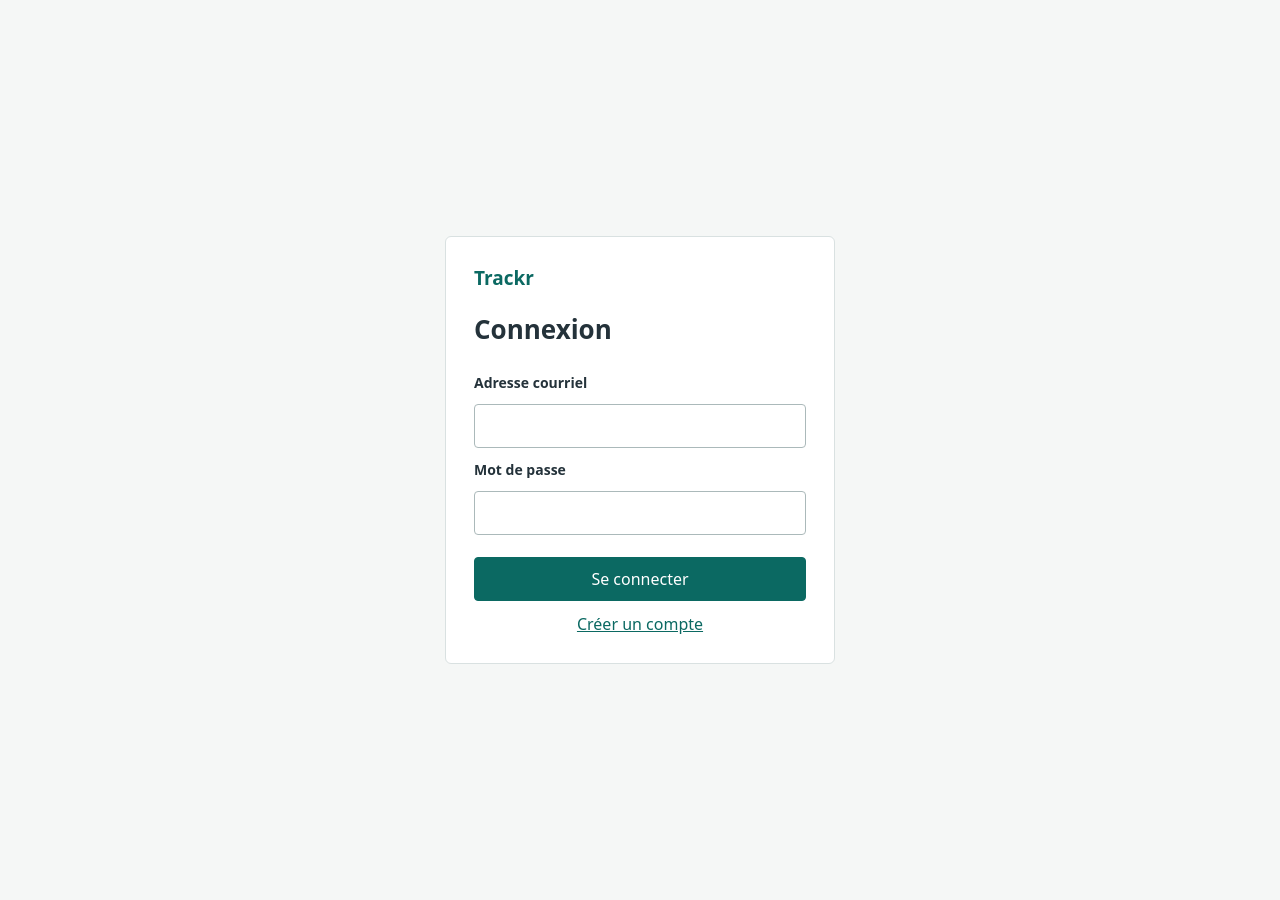
affiche les projets après la connexion avec le jeton JWT
Step 1. Type "alice@example.com" into the field labelled "Adresse courriel" → (640, 426), box [474,404,806,448]
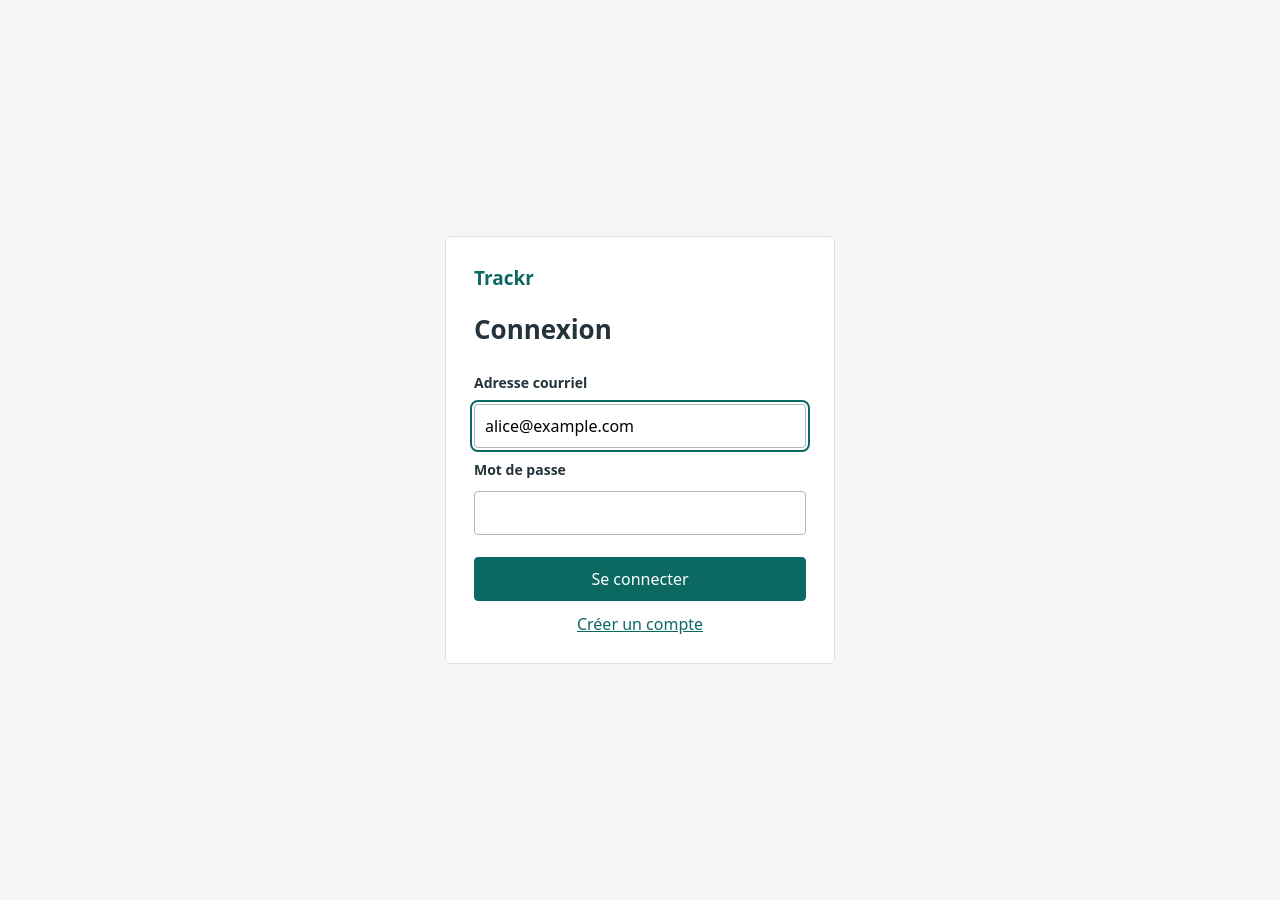
Step 2. Type "Password123!" into the password field labelled "Mot de passe" → (640, 513), box [474,491,806,535]
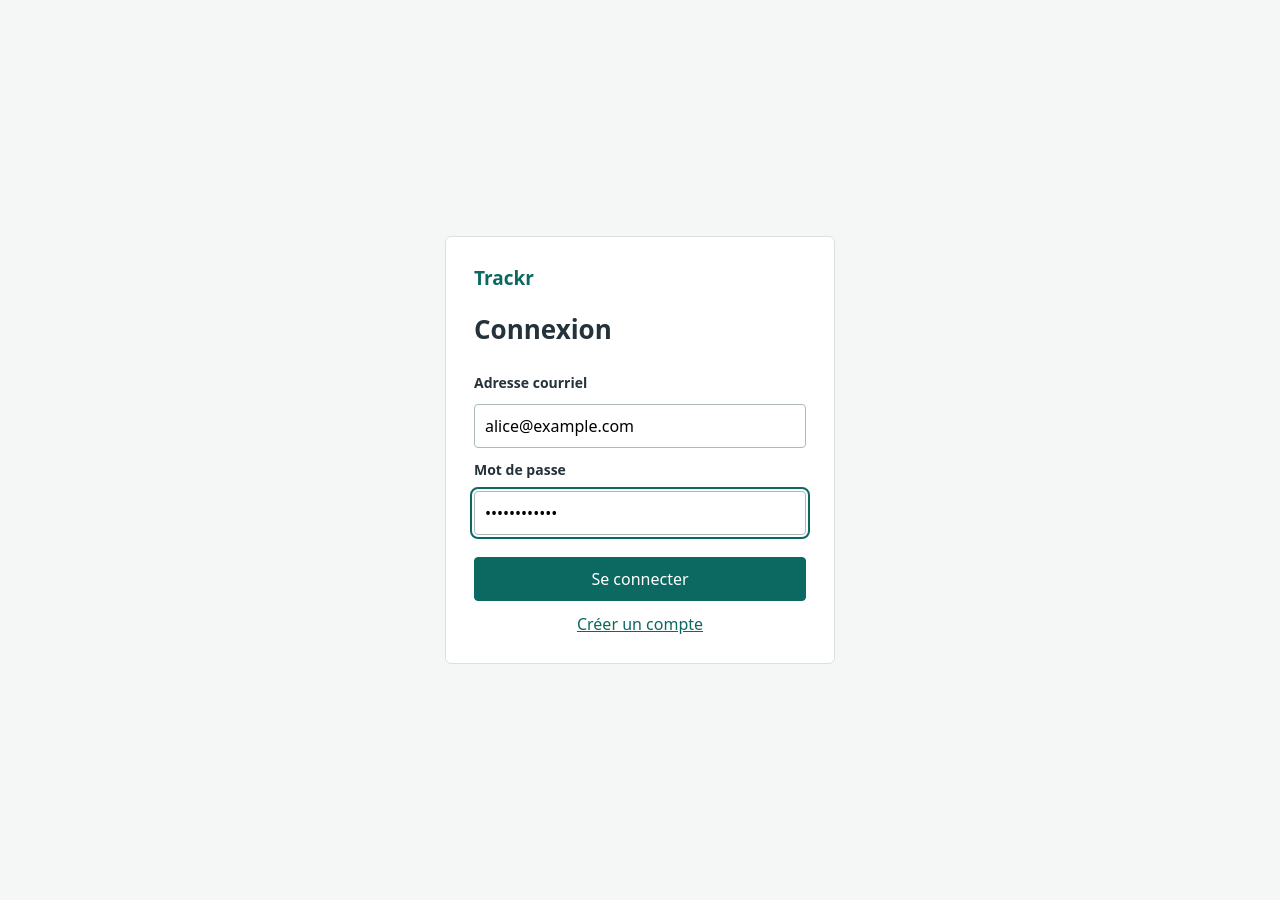
Step 3. Click the button "Se connecter" → (640, 579), box [474,557,806,601]
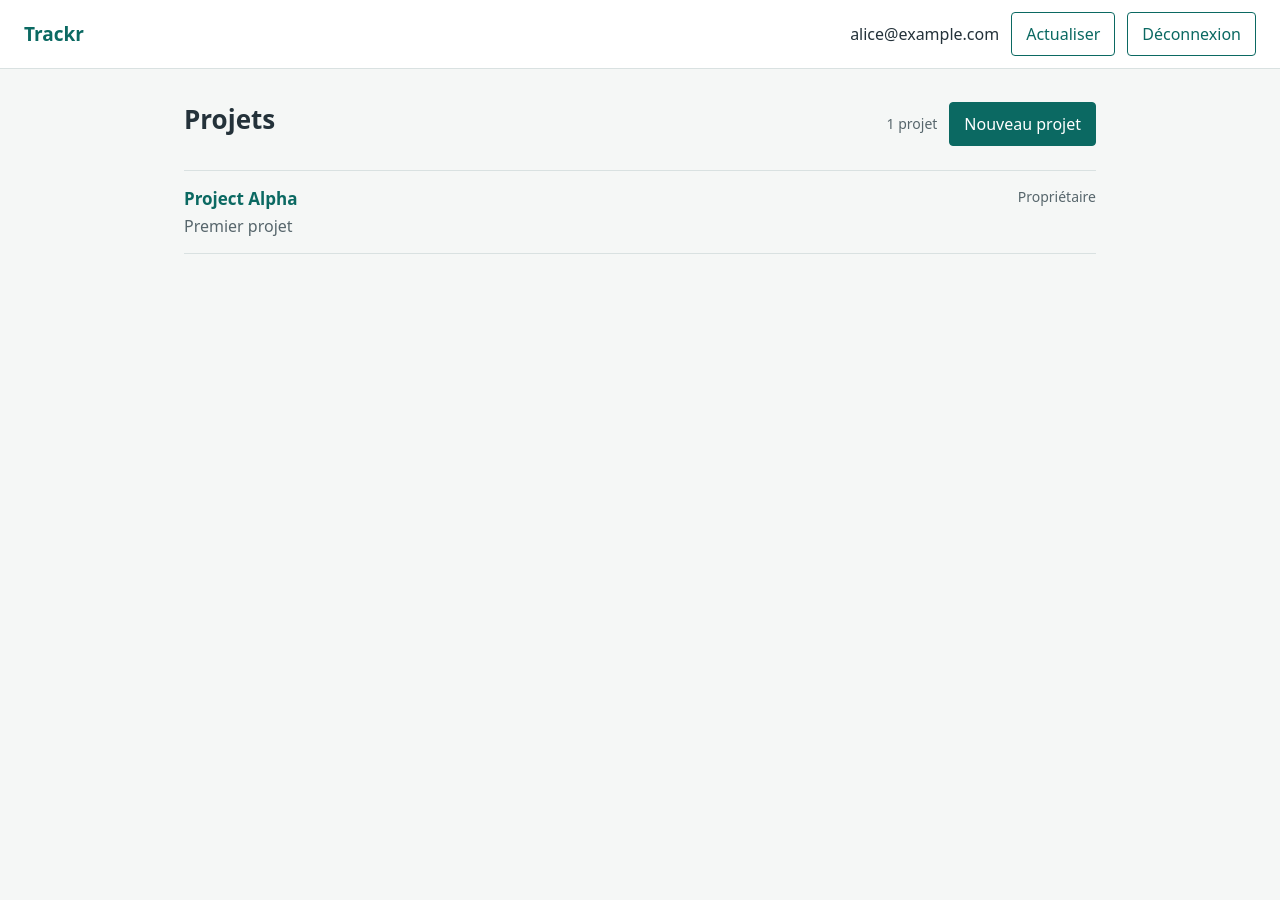
Check: the button "Project Alpha" is shown, box [184,186,298,210]
Check: the text "Propriétaire" is shown, box [1018,186,1096,206]
